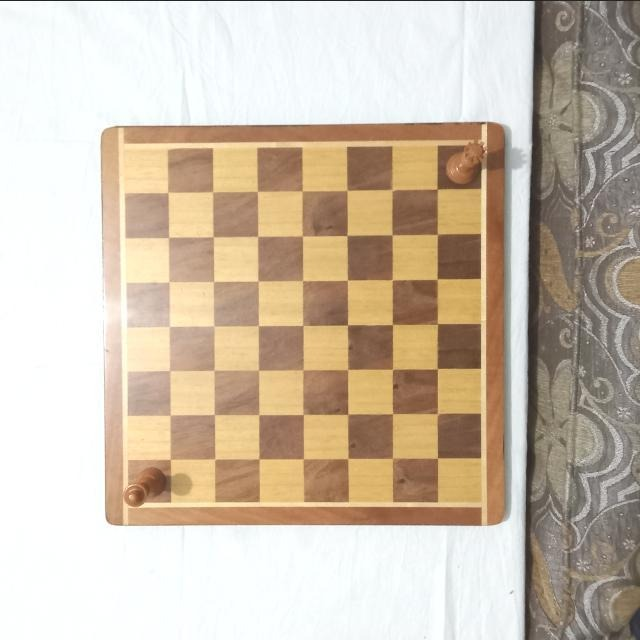white-king: (121, 466, 167, 505)
white-queen: (444, 138, 488, 182)
